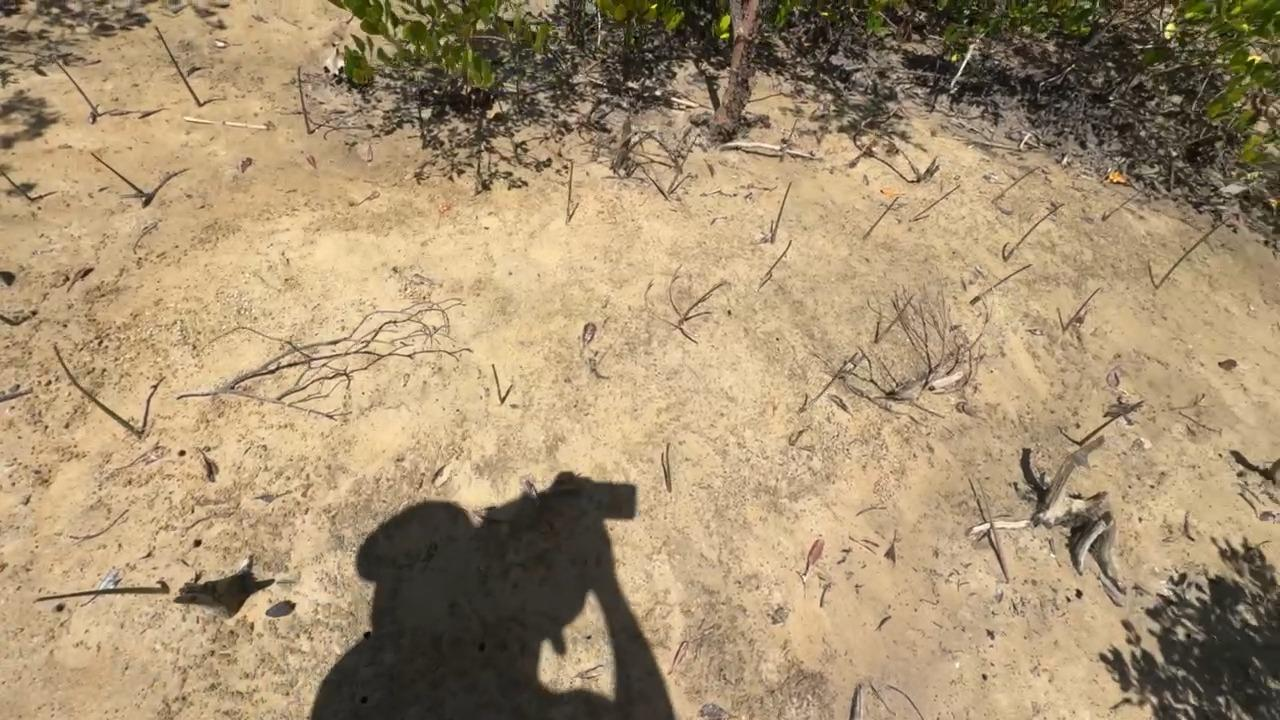Tree: (52, 341, 143, 442), (1151, 216, 1238, 288), (1002, 202, 1084, 262), (976, 476, 1015, 582), (799, 348, 861, 412), (154, 26, 202, 107), (50, 52, 104, 115), (1077, 399, 1146, 446), (89, 149, 150, 200), (30, 580, 171, 600), (969, 263, 1033, 307), (675, 279, 725, 327), (907, 184, 964, 222), (1102, 180, 1154, 221), (874, 294, 918, 341), (991, 165, 1043, 203), (1063, 286, 1104, 332), (862, 196, 901, 240), (761, 237, 793, 282), (769, 181, 792, 243), (297, 65, 313, 135), (0, 169, 36, 200), (565, 158, 577, 223), (667, 173, 691, 198), (492, 364, 503, 407), (665, 440, 673, 492), (0, 311, 21, 328)
